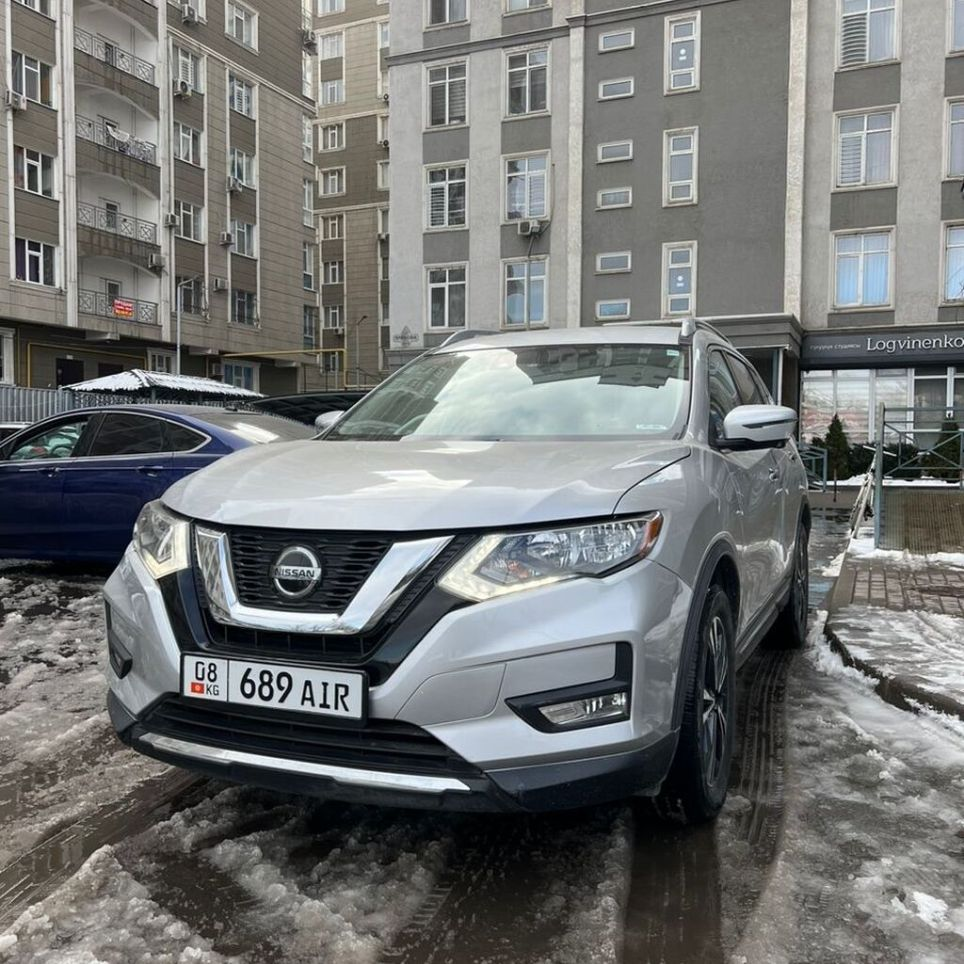license plate: (180, 654, 364, 722)
truck: (103, 319, 832, 829)
